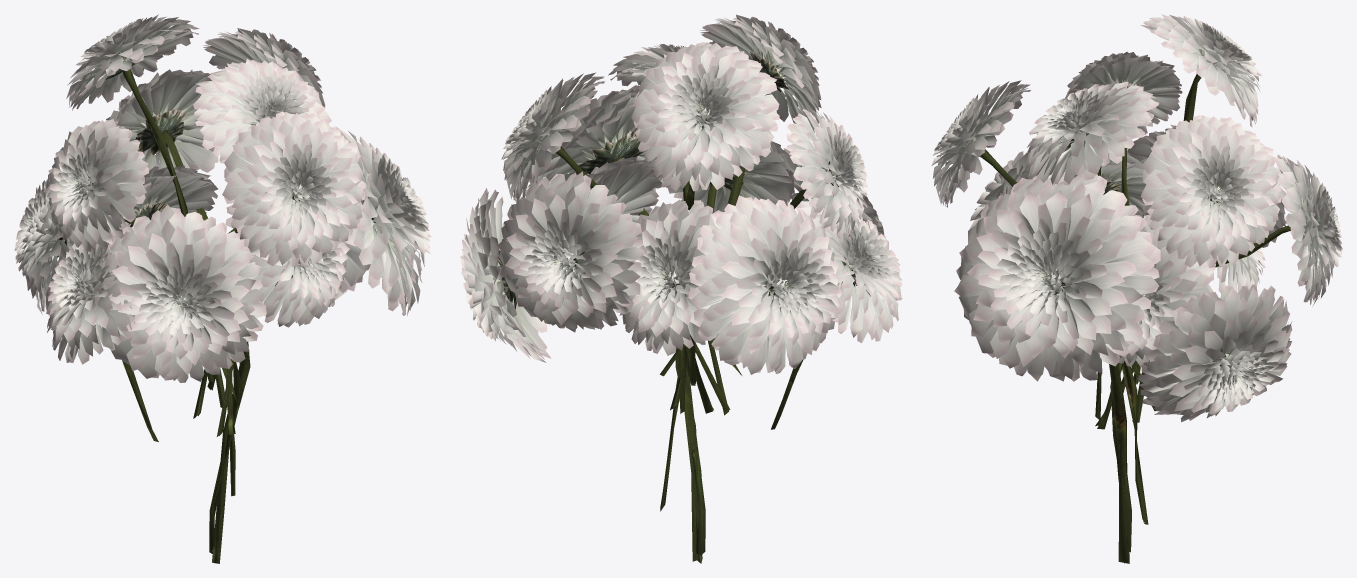
File: z1_bouquet.obj
3 renders of one model, left to right at view 1: azimuth 30°, elevation 25°; view 2: azimuth 150°, elevation 25°; view 3: azimuth 270°, elevation 25°, orthographic. The views are drawn at different scales.
Parts seen in each view (by area): view 1: _Dahlia_WHITE2_270224_1; view 2: _Dahlia_WHITE2_270224_1; view 3: _Dahlia_WHITE2_270224_1.
Boxes of the visible parts, x1,y1,x2,y2 form: _Dahlia_WHITE2_270224_1: (14, 14, 431, 563); _Dahlia_WHITE2_270224_1: (460, 14, 902, 563); _Dahlia_WHITE2_270224_1: (931, 14, 1342, 563).
Bounding box in the file's own units: 0.6913 × 0.9547 × 0.6777.
Materials: 5 (5 with a texture image).
